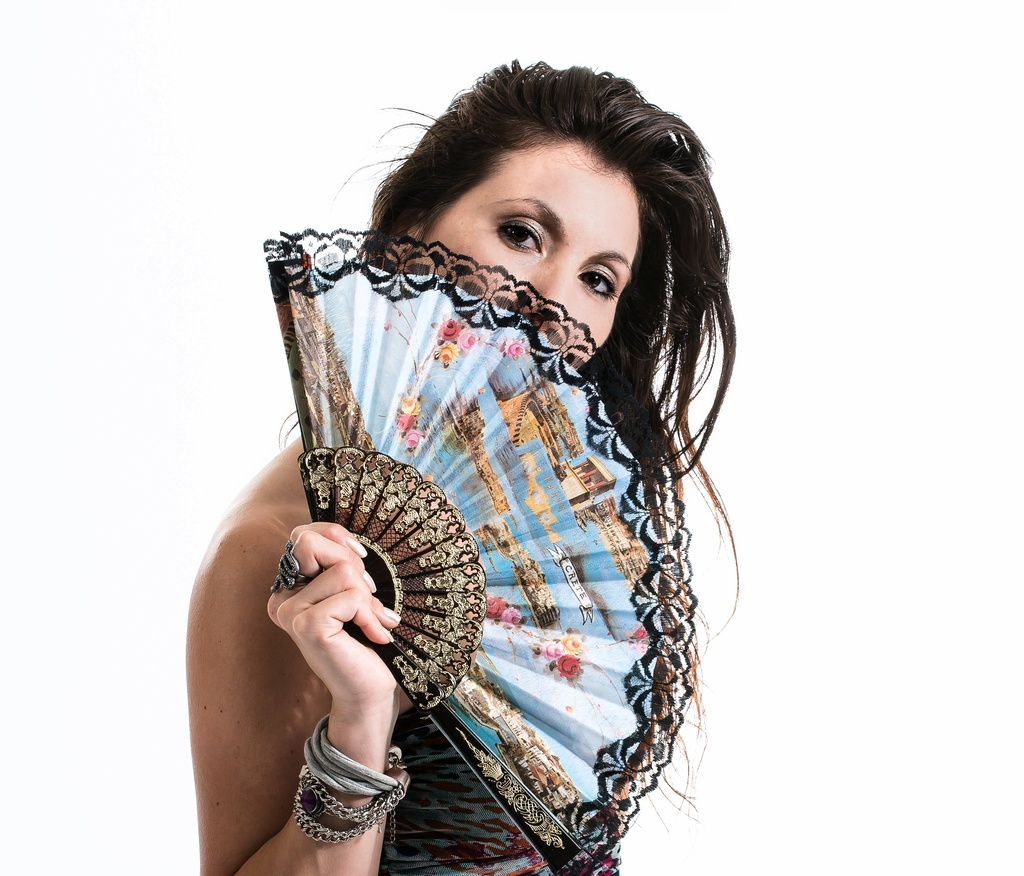face: (430, 139, 637, 403)
